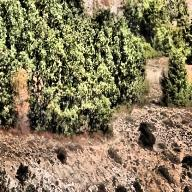boar: (136, 116, 156, 146)
